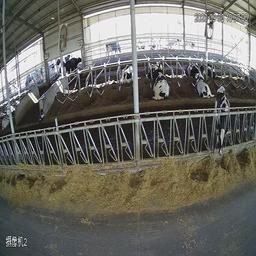cow: (216, 84, 233, 169), (146, 65, 171, 104), (195, 62, 213, 100), (116, 60, 133, 89), (63, 53, 82, 73)
